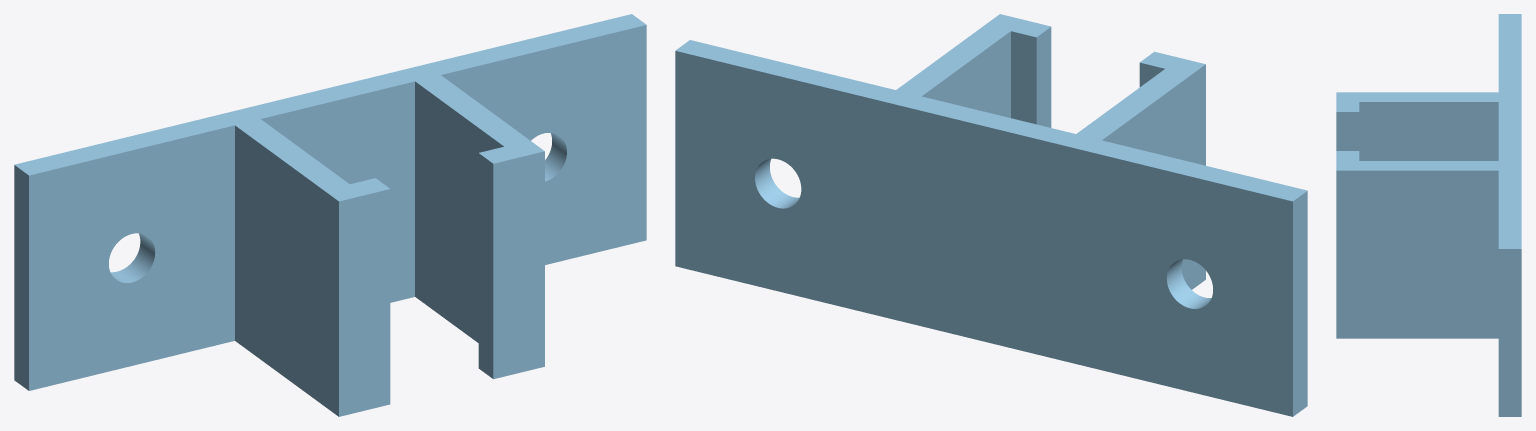
The model's file is Square_Bracket.obj.
3 views of the same model, side by side, from view 1: azimuth 30°, elevation 25°; view 2: azimuth 150°, elevation 25°; view 3: azimuth 270°, elevation 25° (orthographic). The views are drawn at different scales.
Visible parts, largest first — view 1: mesh18, mesh1, mesh13, mesh14, mesh7, mesh8, mesh4, mesh12, mesh5, mesh16, mesh19, mesh0; view 2: mesh17, mesh14, mesh13, mesh7, mesh16, mesh6, mesh5, mesh0, mesh19; view 3: mesh3, mesh14, mesh9, mesh2, mesh11.
Boxes of the visible parts, x1,y1,x2,y2 form: mesh18: (29, 125, 234, 390); mesh1: (441, 25, 646, 264); mesh13: (235, 125, 338, 416); mesh14: (14, 14, 646, 201); mesh7: (415, 81, 503, 342); mesh8: (261, 81, 414, 302); mesh4: (493, 151, 544, 379); mesh12: (339, 189, 390, 416); mesh5: (478, 153, 493, 378); mesh16: (14, 165, 28, 390); mesh19: (110, 233, 155, 282); mesh0: (545, 133, 566, 181); mesh17: (675, 51, 1292, 416); mesh14: (675, 14, 1307, 201); mesh13: (1102, 64, 1205, 289); mesh7: (922, 31, 1010, 117); mesh16: (1293, 191, 1307, 416); mesh6: (1011, 31, 1036, 124); mesh5: (1036, 27, 1051, 127); mesh0: (755, 159, 799, 208); mesh19: (1166, 259, 1211, 308); mesh3: (1336, 170, 1498, 338); mesh14: (1336, 14, 1521, 248); mesh9: (1359, 102, 1498, 160); mesh2: (1498, 249, 1521, 416); mesh11: (1336, 112, 1359, 150).
Size of the model in its own units: 0.061 by 0.0203 by 0.0203.
